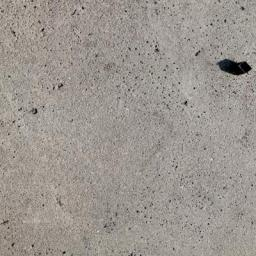FOD: (217, 56, 254, 78)
